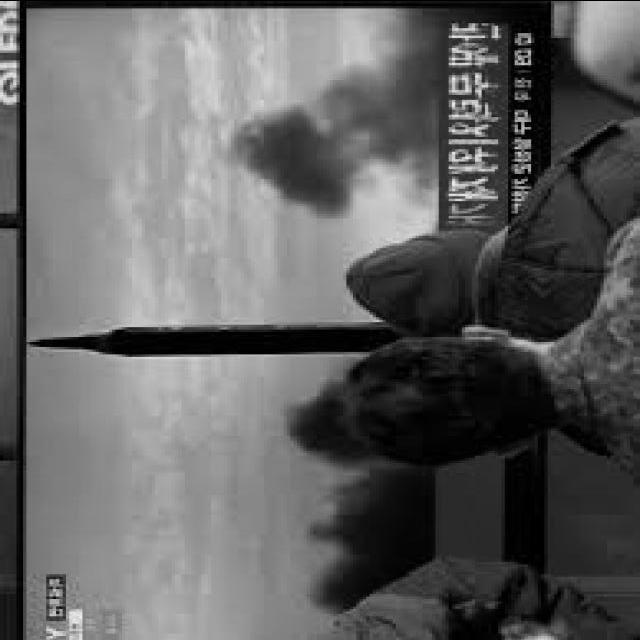missile: (23, 318, 420, 366)
